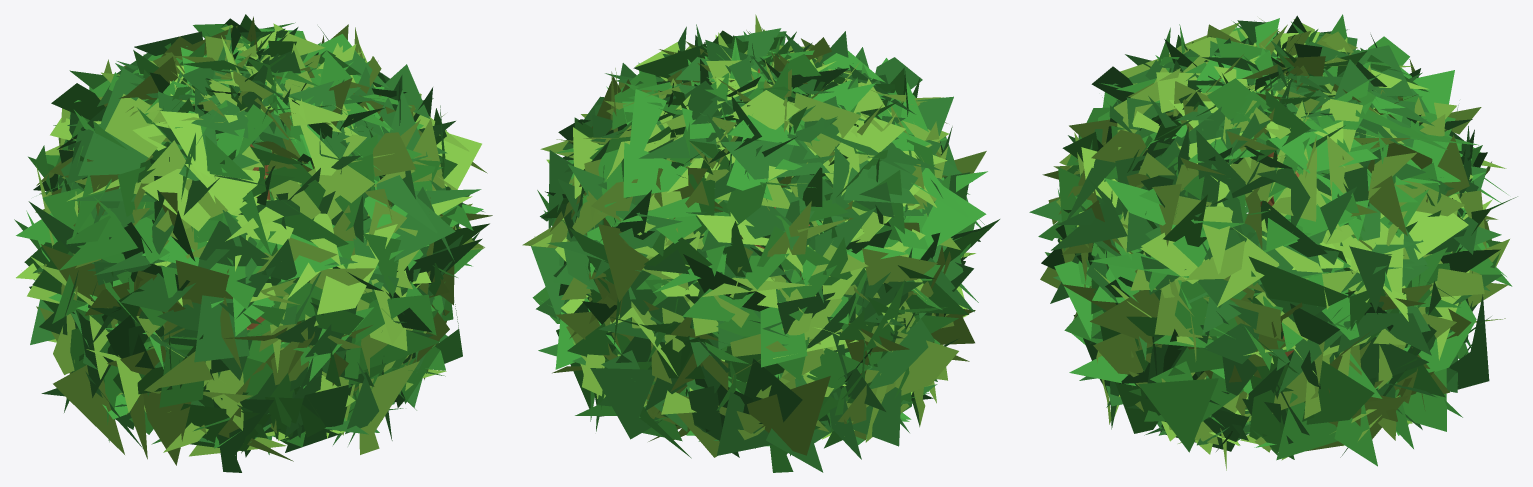
Rendered from Bush.fbx.
3 views of the same model, side by side, from view 1: azimuth 30°, elevation 25°; view 2: azimuth 150°, elevation 25°; view 3: azimuth 270°, elevation 25° (orthographic). The views are drawn at different scales.
Parts seen in each view (by area): view 1: Sphere.002, Sphere.003, Sphere.001; view 2: Sphere.003, Sphere.001, Sphere.002; view 3: Sphere.001, Sphere.002, Sphere.003.
Boxes of the visible parts, left/top/right/bottom form: Sphere.002: left=16, top=16, right=492, bottom=465; Sphere.003: left=28, top=18, right=483, bottom=472; Sphere.001: left=14, top=14, right=489, bottom=453; Sphere.003: left=531, top=24, right=993, bottom=472; Sphere.001: left=532, top=30, right=999, bottom=472; Sphere.002: left=522, top=14, right=986, bottom=457; Sphere.001: left=1038, top=14, right=1517, bottom=466; Sphere.002: left=1040, top=18, right=1509, bottom=470; Sphere.003: left=1029, top=15, right=1502, bottom=457.
Bounding box in the file's own units: 2.06 × 2.04 × 1.75.
